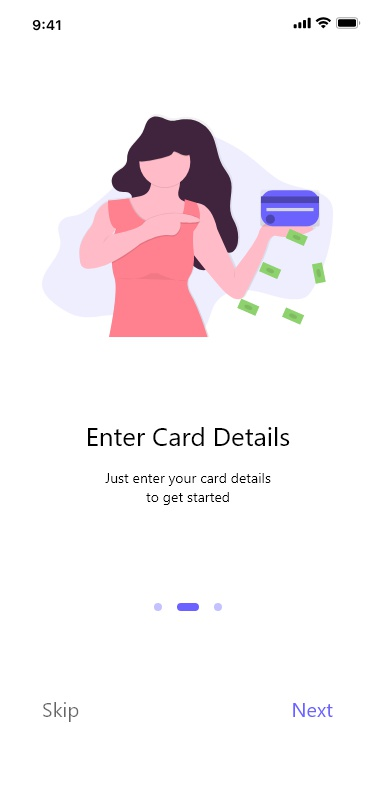Image: (41, 115, 334, 338)
PageIndicator: (154, 602, 223, 612)
Text: (105, 472, 271, 506), (88, 427, 290, 448), (43, 701, 80, 723), (292, 702, 334, 718)
UpperTaskBar: (33, 17, 361, 32)
